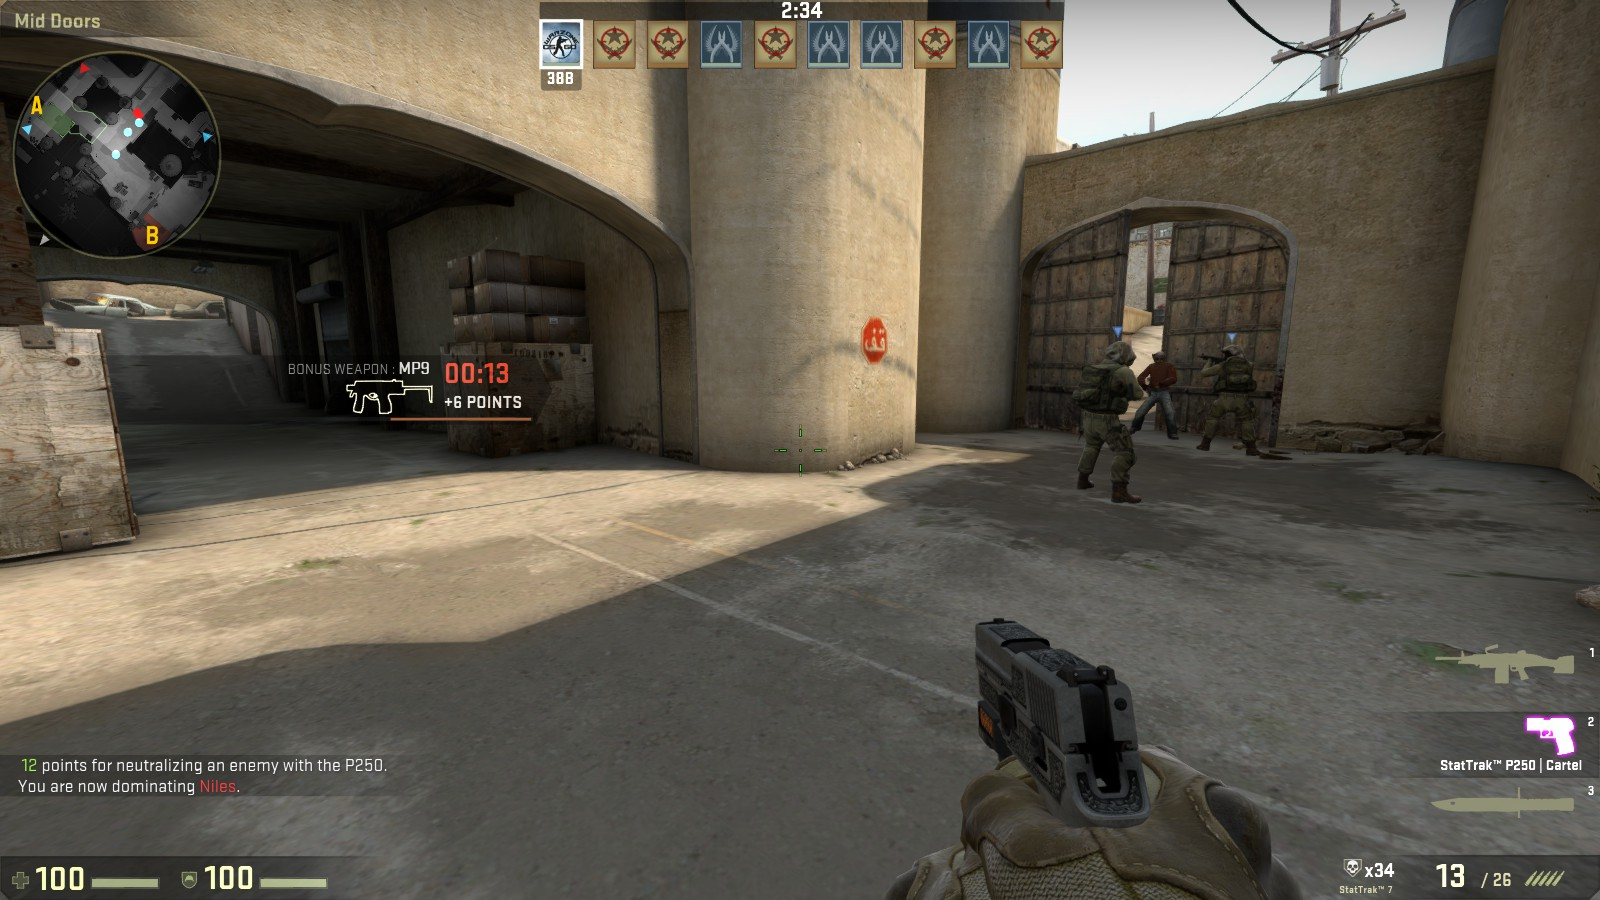c: (1076, 338, 1138, 499), (1205, 343, 1258, 455)
ch: (1101, 338, 1133, 368), (1219, 343, 1248, 362)
t: (1135, 349, 1178, 442)
th: (1149, 349, 1170, 366)
